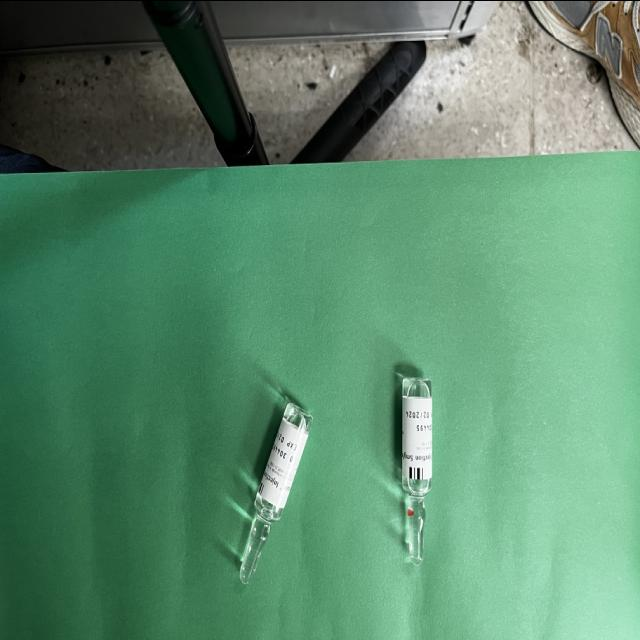Ampoules: (240, 401, 312, 581), (401, 375, 432, 563)
